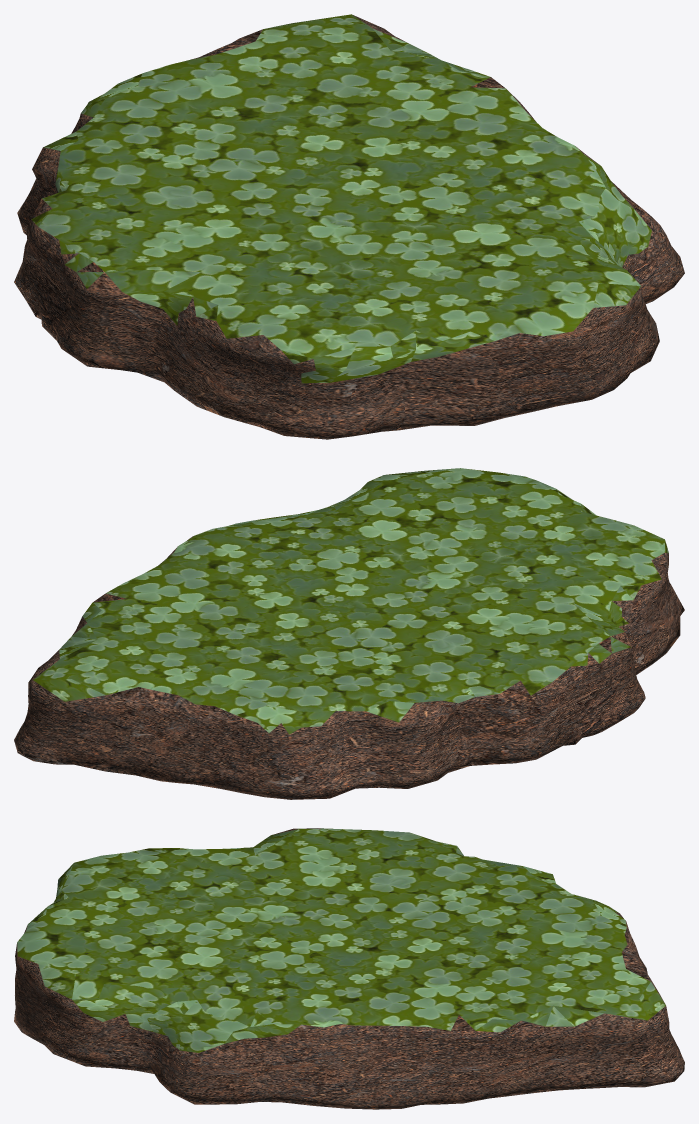
The model's file is CavePlatf3B.fbx.
3 renders of one model, top to bottom at view 1: azimuth 30°, elevation 25°; view 2: azimuth 150°, elevation 25°; view 3: azimuth 270°, elevation 25°, orthographic. The views are drawn at different scales.
Parts seen in each view (by area): view 1: CavePlatform3B; view 2: CavePlatform3B; view 3: CavePlatform3B.
Boxes of the visible parts, left/top/right/bottom form: CavePlatform3B: left=14, top=14, right=684, bottom=439; CavePlatform3B: left=14, top=468, right=684, bottom=799; CavePlatform3B: left=14, top=828, right=684, bottom=1109.
Size of the model in its own units: 826 by 128 by 1021.
